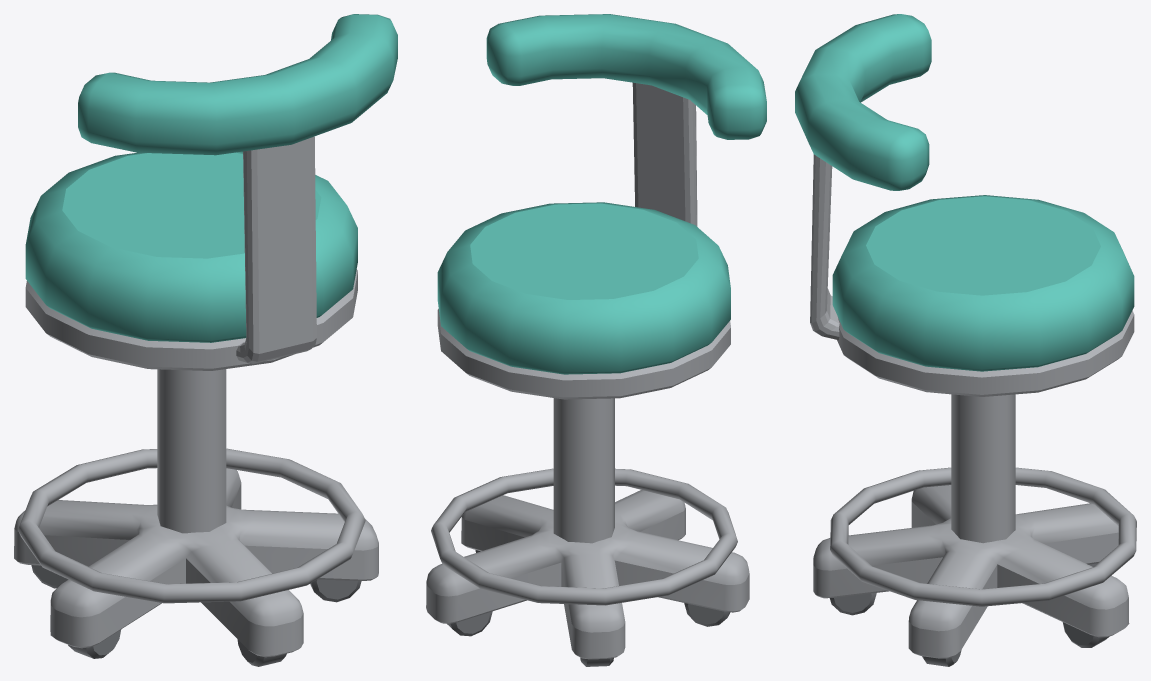
The model's file is Chair.fbx.
3 renders of one model, left to right at view 1: azimuth 30°, elevation 25°; view 2: azimuth 150°, elevation 25°; view 3: azimuth 270°, elevation 25°, orthographic. The views are drawn at different scales.
Visible parts, largest first — view 1: Chair; view 2: Chair; view 3: Chair.
Boxes of the visible parts, x1=… form: Chair: x1=14, y1=14, x2=397, y2=666; Chair: x1=426, y1=14, x2=766, y2=666; Chair: x1=795, y1=14, x2=1136, y2=666.
Bounding box in the file's own units: 0.4711 × 0.8428 × 0.4876.
